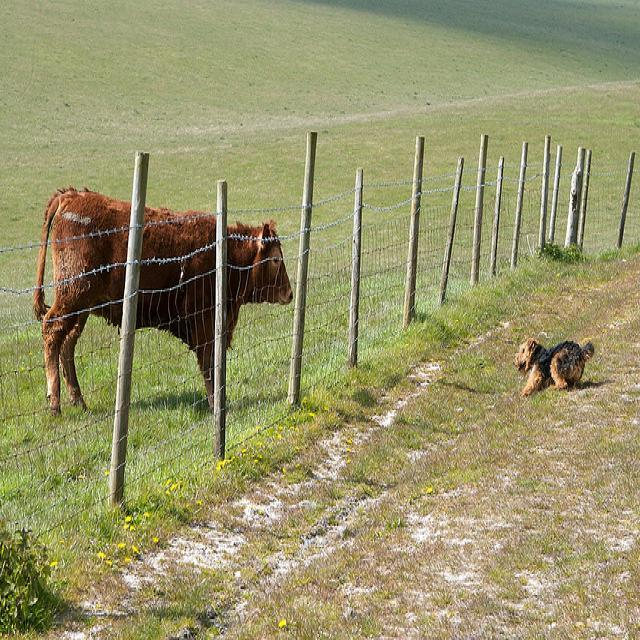cow: (31, 185, 292, 416)
